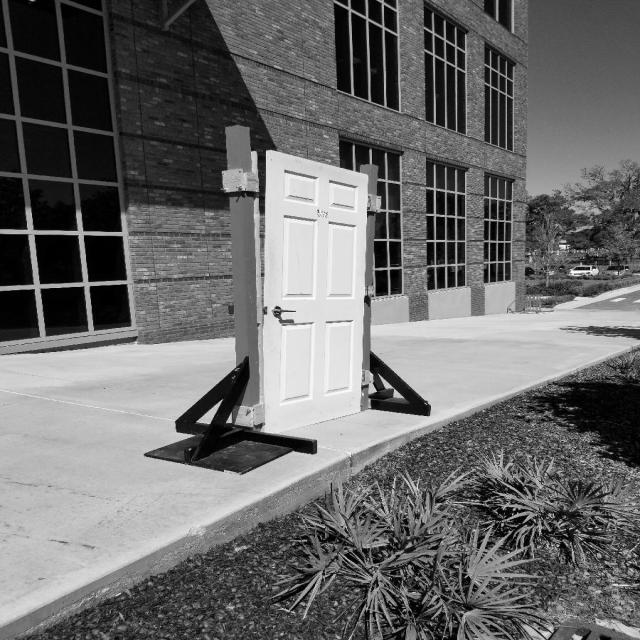door: (260, 148, 370, 438), (267, 304, 299, 320)
